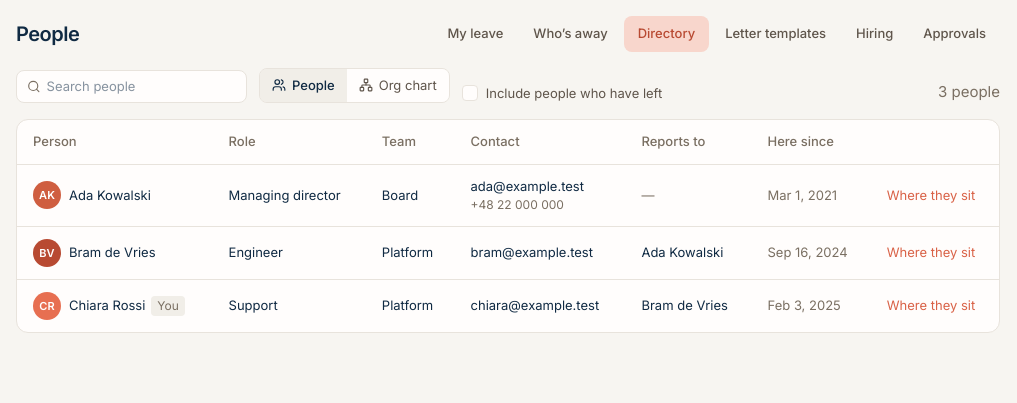
Test case: the directory › the people who have left are HR's read alone
Click the checkbox labelled "Include people who have left" at (562, 93), box [462,84,662,103]
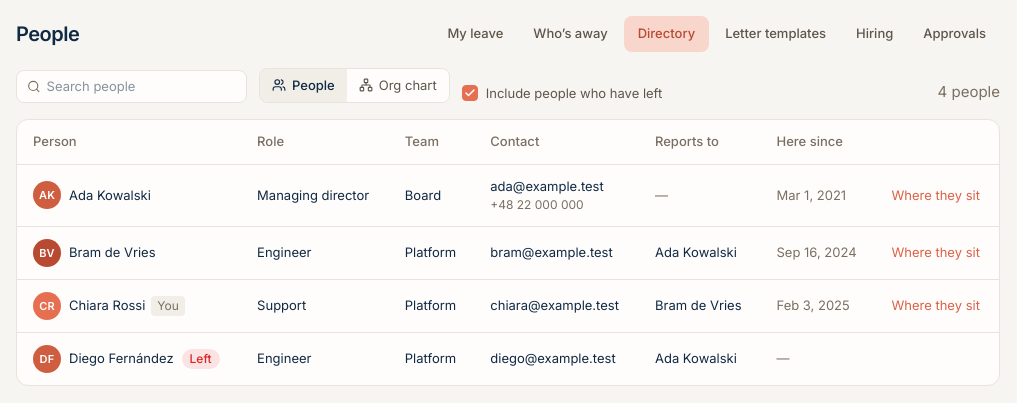
expect the text "Left" is shown: met, box [182,349,220,369]
